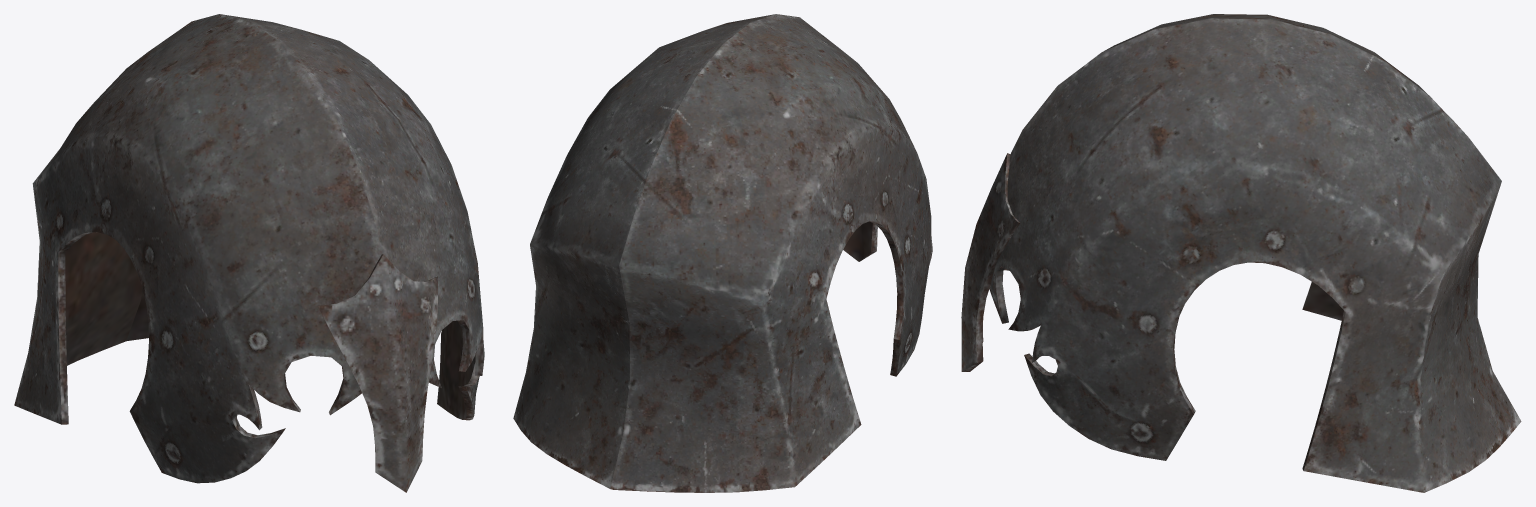
File: sk_gb_uruk_helmet_med_g.fbx
3 renders of one model, left to right at view 1: azimuth 30°, elevation 25°; view 2: azimuth 150°, elevation 25°; view 3: azimuth 270°, elevation 25°, orthographic. The views are drawn at different scales.
Parts seen in each view (by area): view 1: sk_gb_uruk_helmet_med_g; view 2: sk_gb_uruk_helmet_med_g; view 3: sk_gb_uruk_helmet_med_g.
Boxes of the visible parts, x1,y1,x2,y2 form: sk_gb_uruk_helmet_med_g: [14, 14, 484, 492]; sk_gb_uruk_helmet_med_g: [513, 14, 932, 492]; sk_gb_uruk_helmet_med_g: [961, 14, 1521, 492].
Size of the model in its own units: 0.2123 by 0.3042 by 0.2435.
1 material, 1 textured.
